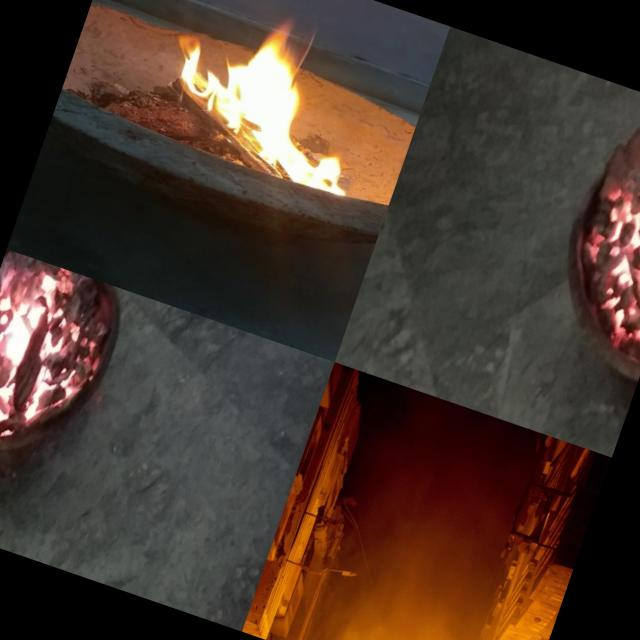fire: (146, 0, 396, 204), (0, 249, 99, 464), (560, 102, 640, 351)
